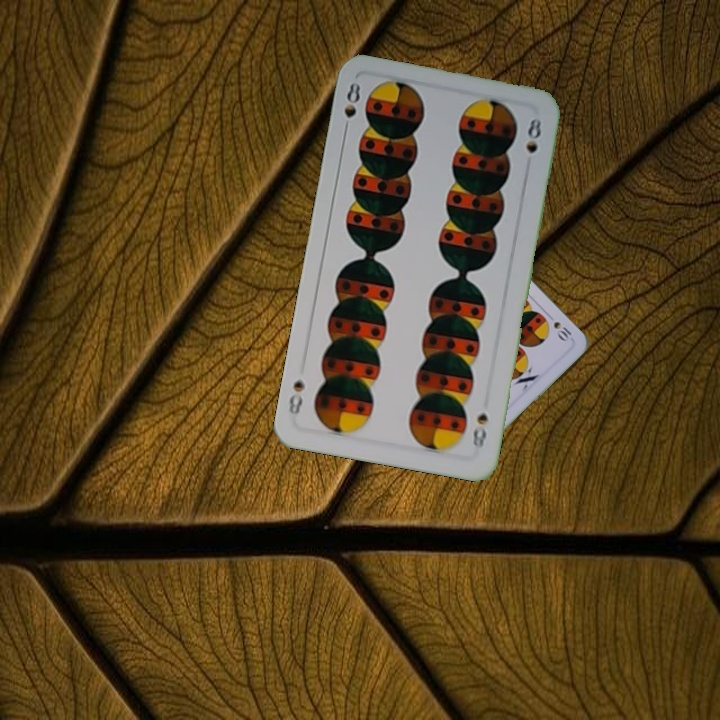S10: (549, 317, 574, 344)
S8: (339, 78, 363, 137), (468, 409, 491, 455)
